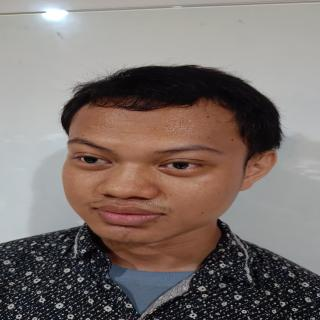Takut: (54, 96, 242, 254)
